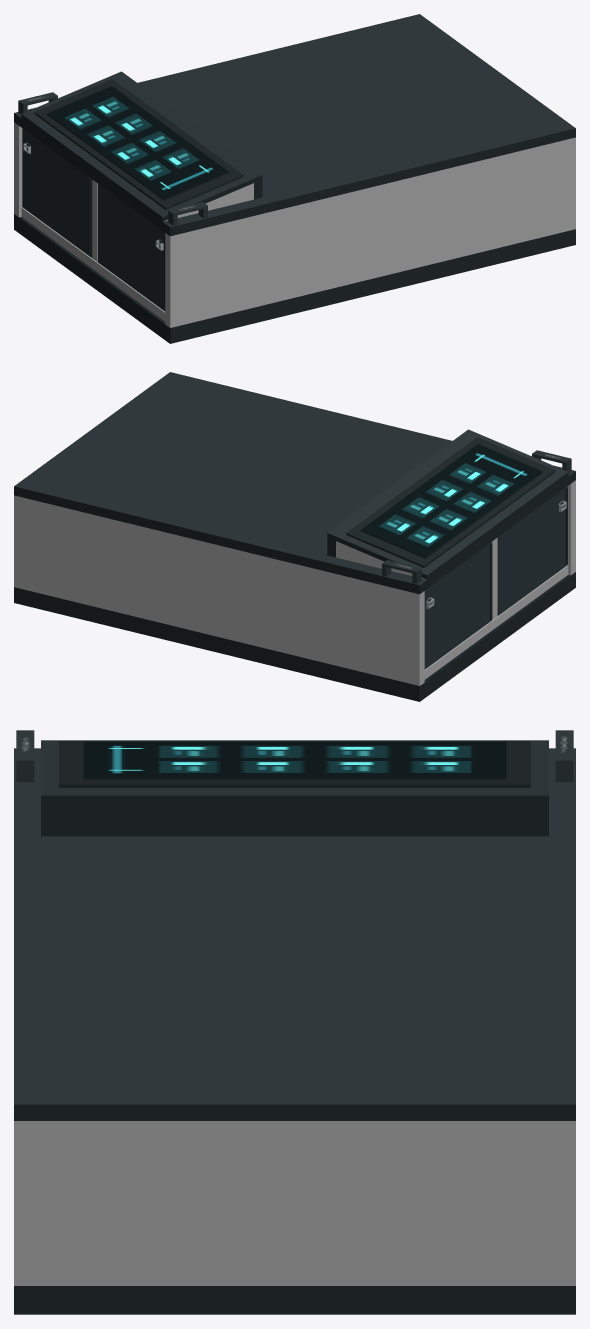
File: monitor-north.glb
3 renders of one model, top to bottom at view 1: azimuth 30°, elevation 25°; view 2: azimuth 150°, elevation 25°; view 3: azimuth 270°, elevation 25°, orthographic. The views are drawn at different scales.
Parts seen in each view (by area): view 1: service_worktop, side_south, deck_plinth, operating_display, service_panel_1, instrument_wedge, service_panel_0, display_bezel, service_sill, back_wall, side_north, instrument_cheek_south (+1 smaller); view 2: service_worktop, side_north, deck_plinth, operating_display, service_panel_0, instrument_wedge, service_panel_1, display_bezel, service_sill, back_wall, side_south, instrument_cheek_north (+1 smaller); view 3: service_worktop, back_wall, rear_service_cover, operating_display, deck_plinth, instrument_wedge, display_bezel.
Boxes of the visible parts, bbox=[...] form: service_worktop: bbox=[14, 14, 575, 236]; side_south: bbox=[165, 139, 567, 327]; deck_plinth: bbox=[14, 214, 575, 343]; operating_display: bbox=[47, 86, 229, 200]; service_panel_1: bbox=[22, 128, 92, 257]; instrument_wedge: bbox=[21, 71, 262, 221]; service_panel_0: bbox=[98, 184, 165, 311]; display_bezel: bbox=[34, 79, 243, 209]; service_sill: bbox=[21, 207, 165, 321]; back_wall: bbox=[567, 137, 575, 230]; side_north: bbox=[14, 122, 22, 217]; instrument_cheek_south: bbox=[164, 183, 253, 221]; service_worktop: bbox=[14, 372, 575, 594]; side_north: bbox=[22, 497, 424, 685]; deck_plinth: bbox=[14, 572, 575, 701]; operating_display: bbox=[360, 444, 542, 558]; service_panel_0: bbox=[497, 486, 567, 615]; instrument_wedge: bbox=[327, 429, 568, 579]; service_panel_1: bbox=[424, 542, 491, 669]; display_bezel: bbox=[346, 437, 555, 567]; service_sill: bbox=[424, 565, 568, 679]; back_wall: bbox=[14, 495, 22, 588]; side_south: bbox=[567, 480, 575, 575]; instrument_cheek_north: bbox=[336, 541, 425, 579]; service_worktop: bbox=[14, 748, 575, 1120]; back_wall: bbox=[14, 1121, 575, 1285]; rear_service_cover: bbox=[41, 803, 548, 836]; operating_display: bbox=[83, 741, 506, 779]; deck_plinth: bbox=[14, 1286, 575, 1314]; instrument_wedge: bbox=[41, 740, 548, 803]; display_bezel: bbox=[59, 741, 530, 787].
Bounding box in the file's own units: 3.75 × 1.23 × 2.5.
1 material, 1 textured.
